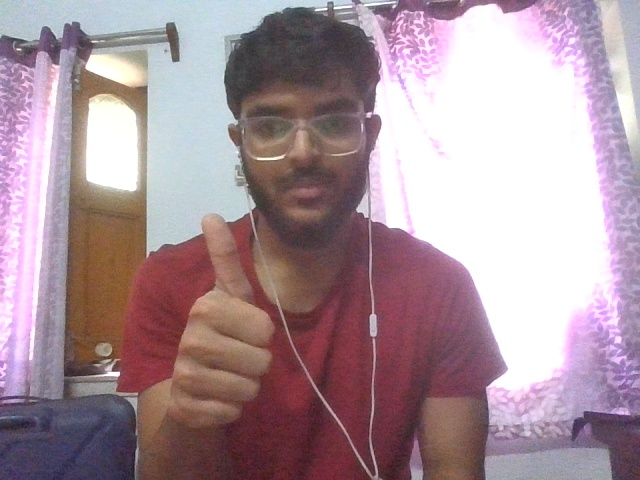ThumbsUp: (170, 213, 275, 428)
